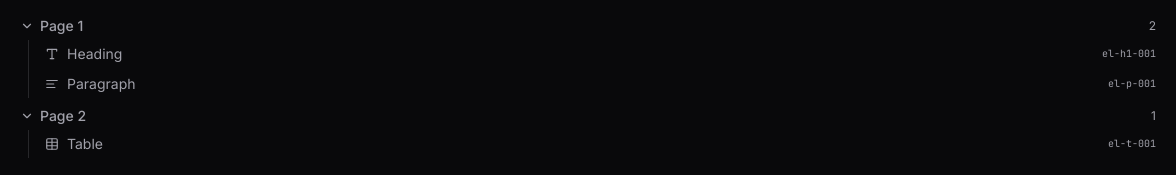
ElementTree › collapses page on click
The image size is (1176, 175).
Click the text "Page 1" at (62, 26), box [40,16,83,36]
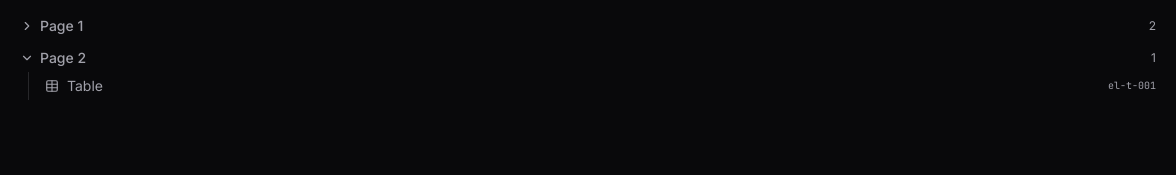
Check: the text "Table" is shown, box [67,76,103,96]
Check: the button "Heading" is gone
